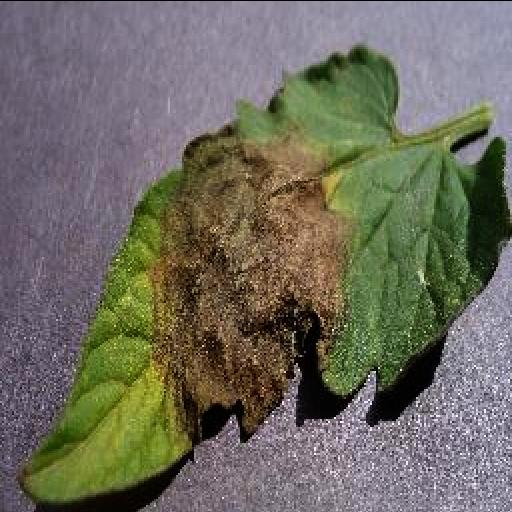disease_tomato: (18, 43, 512, 501)
